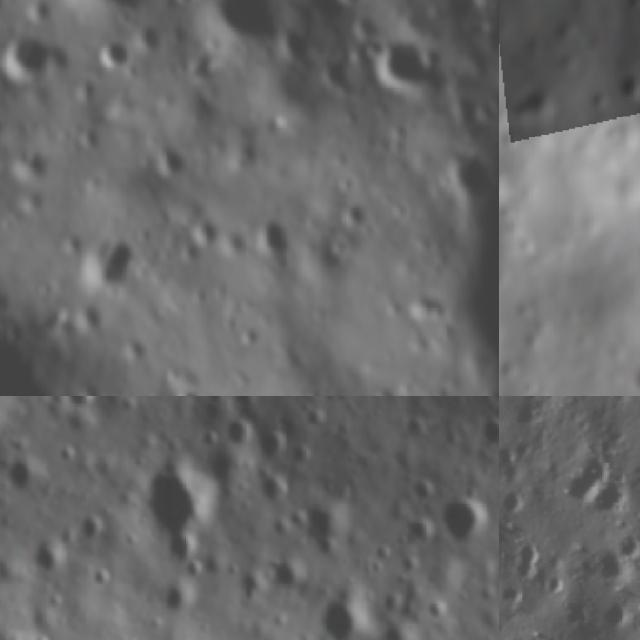crater: (144, 462, 223, 556), (197, 0, 283, 55), (299, 493, 357, 572), (369, 38, 444, 98), (433, 144, 492, 204), (0, 335, 57, 396), (0, 23, 52, 89), (502, 80, 573, 128), (76, 232, 132, 292), (562, 438, 609, 509), (435, 494, 486, 550), (315, 593, 372, 640), (242, 208, 288, 262), (1, 456, 46, 503), (147, 577, 198, 618), (57, 0, 152, 22), (5, 144, 50, 186), (234, 566, 273, 613), (68, 295, 111, 337), (24, 540, 66, 582), (331, 192, 367, 240), (148, 142, 188, 182), (257, 473, 293, 515), (95, 33, 130, 73), (220, 411, 253, 453), (76, 511, 111, 548), (52, 396, 105, 420), (518, 322, 554, 356), (613, 62, 640, 107), (471, 409, 499, 452), (257, 430, 290, 466), (499, 348, 521, 382), (169, 384, 202, 396), (630, 359, 640, 396)
